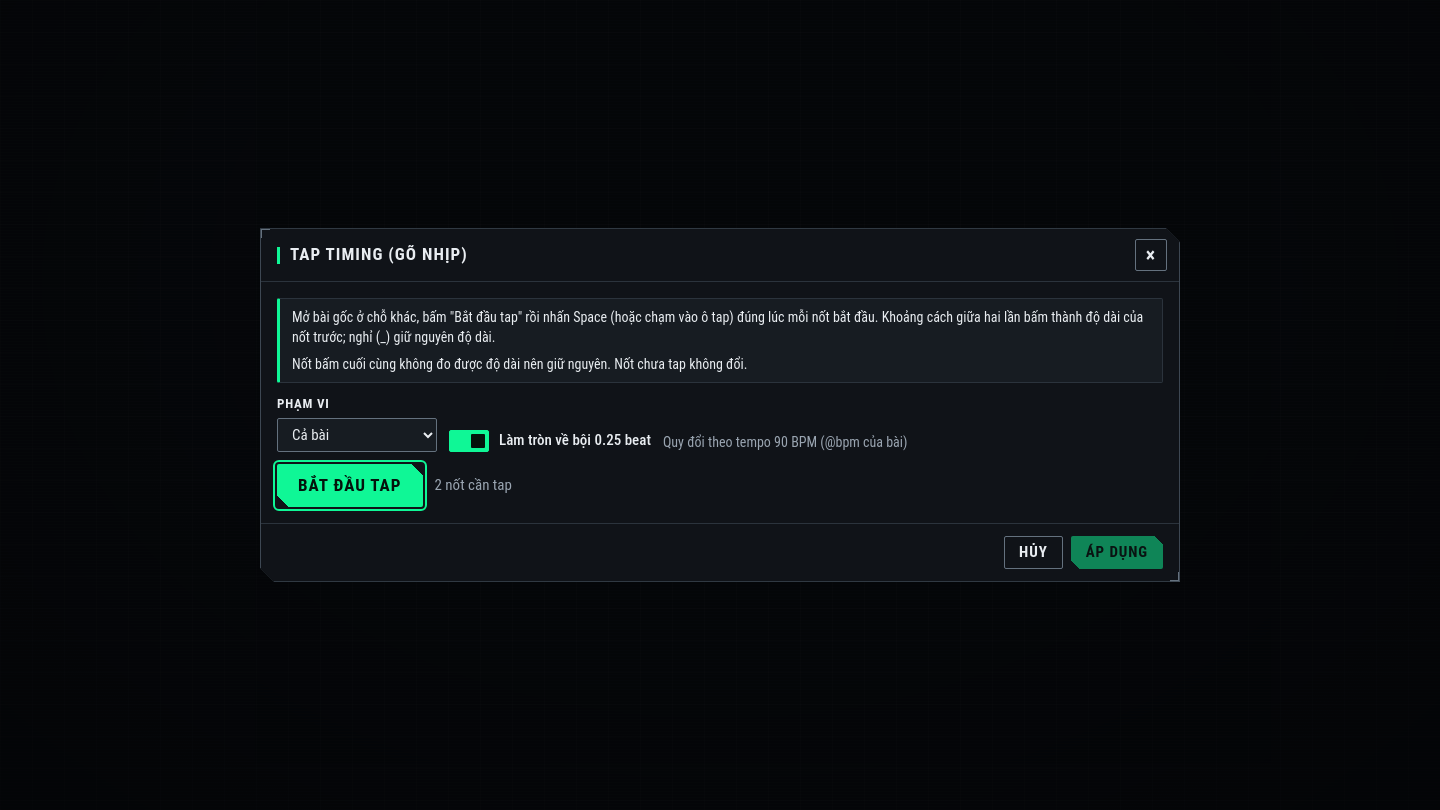
Test case: TapTimingModal › colors the current key by modifier and names the modifier
Step 1. Click the button "Bắt đầu tap" → (350, 486), box [277, 464, 422, 507]
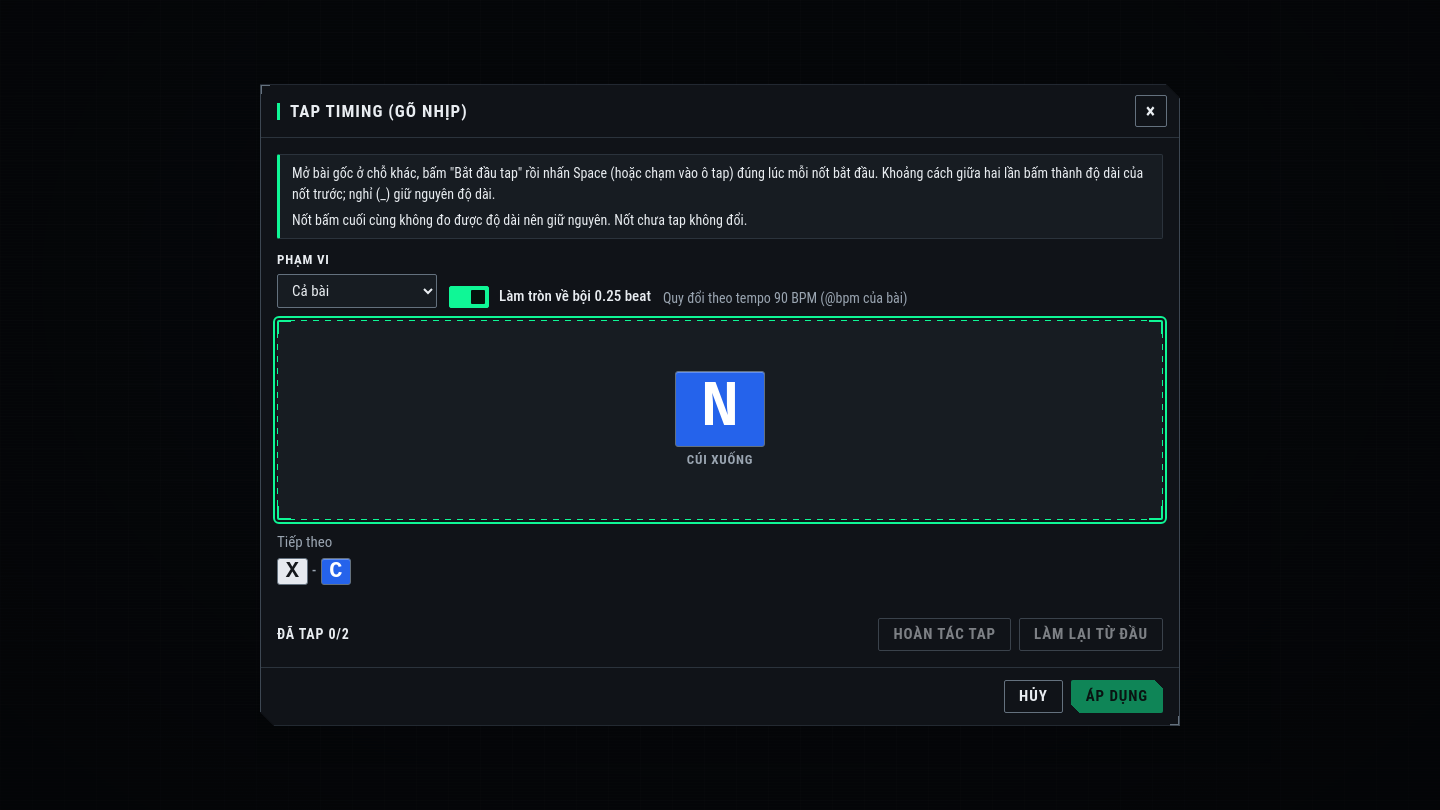
Now the text with class "tap-key" reads "N", box [701, 372, 739, 444]
Now the button with aria-label "Ô tap" shows "Cúi Xuống"
Step 2. Press Space in the button with aria-label "Ô tap", box [277, 320, 1163, 520]
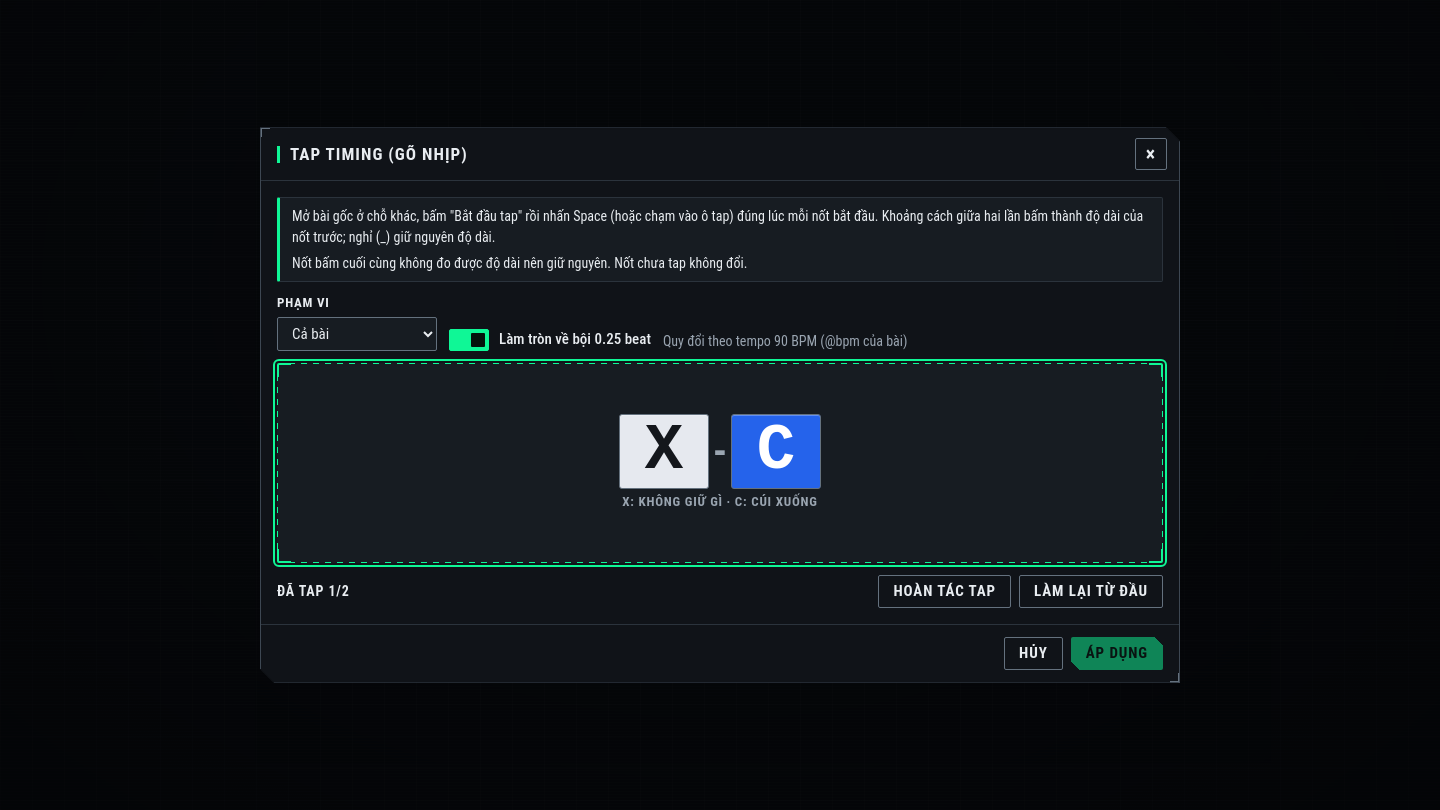
Now the button with aria-label "Ô tap" shows "X: không giữ gì · C: Cúi Xuống", box [277, 363, 1163, 563]
